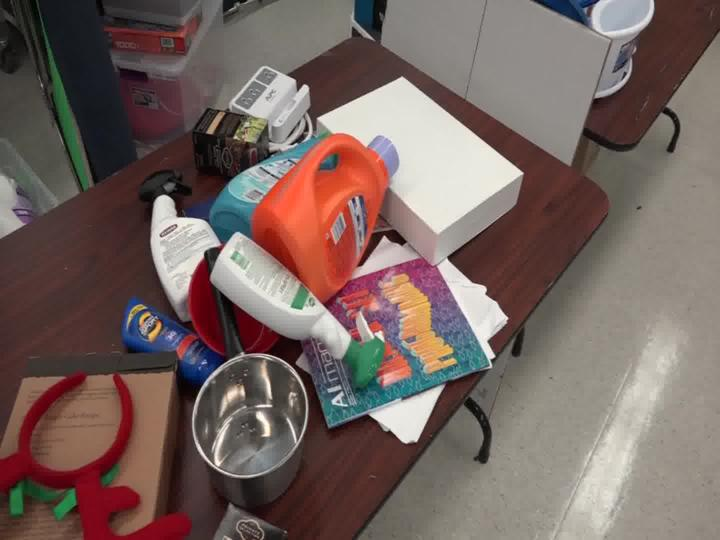downy: (190, 127, 329, 256)
